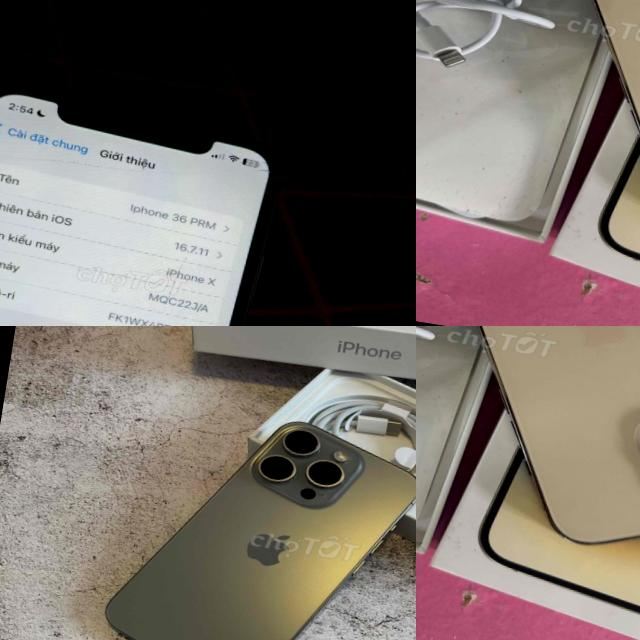gen_14: (416, 326, 640, 570), (518, 0, 640, 259)
gen_15: (90, 390, 416, 640)
gen_x_xs: (0, 91, 274, 326)
